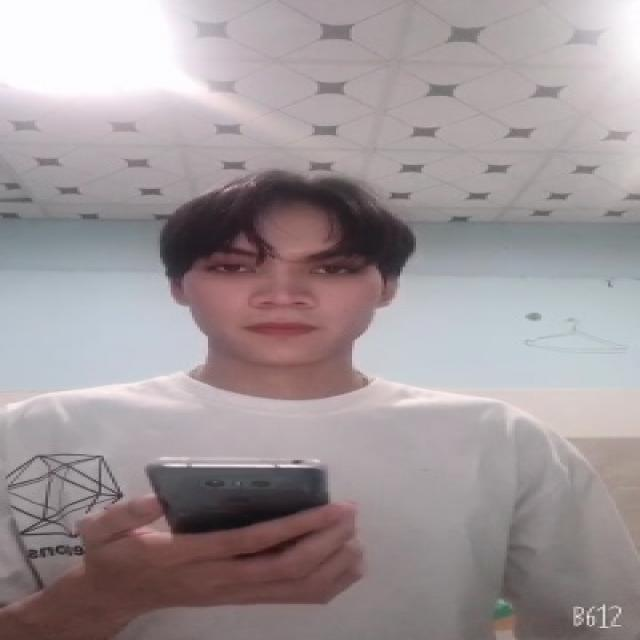Phone: (142, 452, 332, 540)
